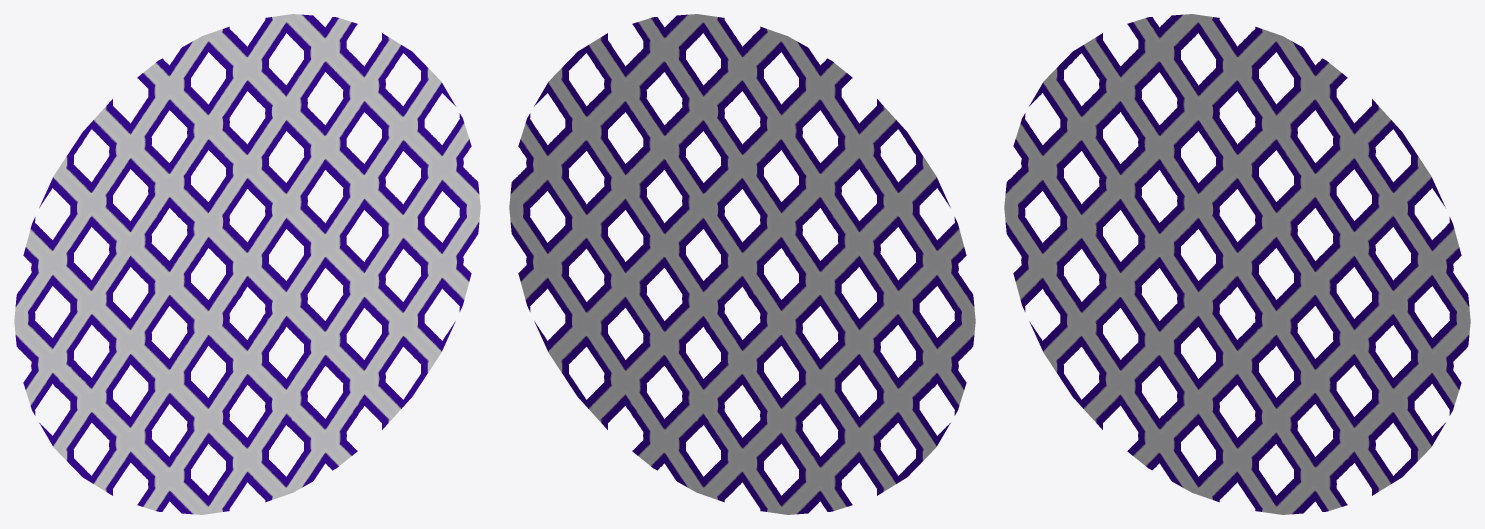
The model's file is cicccrle.fbx.
3 views of the same model, side by side, from view 1: azimuth 30°, elevation 25°; view 2: azimuth 150°, elevation 25°; view 3: azimuth 330°, elevation 25° (orthographic).
Visible parts, largest first — view 1: Circle; view 2: Circle; view 3: Circle.
Boxes of the visible parts, <box> form: Circle: <box>14,14,480,514</box>; Circle: <box>509,14,975,514</box>; Circle: <box>1004,14,1470,514</box>.
Size of the model in its own units: 200 by 200 by 2.38e-05.
